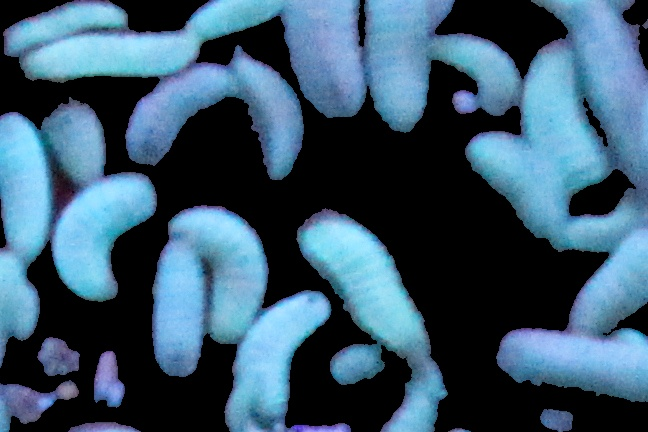larvae: (301, 213, 426, 363), (465, 124, 573, 251), (168, 207, 268, 341), (53, 173, 156, 302), (236, 287, 334, 419), (519, 34, 607, 180), (494, 321, 648, 404), (119, 65, 238, 168), (281, 1, 369, 117), (21, 29, 197, 82), (231, 53, 302, 178), (365, 1, 431, 131), (1, 109, 55, 260), (148, 243, 206, 383), (573, 230, 648, 331), (428, 29, 518, 113), (2, 2, 129, 52), (553, 188, 641, 255), (48, 100, 108, 185), (185, 1, 281, 36), (1, 260, 38, 346)
